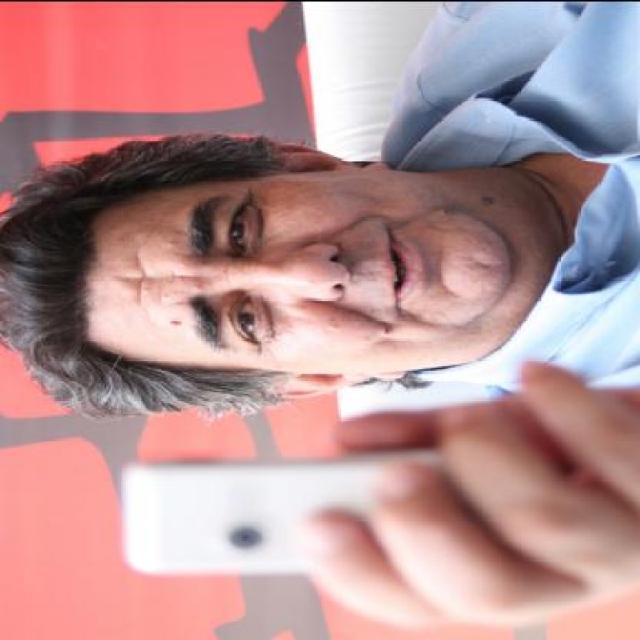phone: (118, 448, 469, 574)
